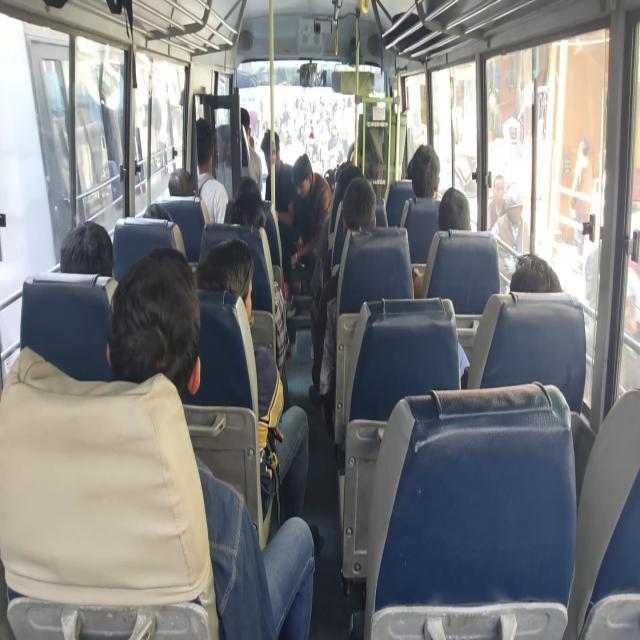person: (107, 246, 315, 638), (196, 237, 310, 529), (308, 176, 376, 432), (509, 253, 589, 407), (412, 186, 471, 298), (290, 153, 332, 275), (195, 117, 228, 224), (260, 129, 294, 229), (569, 136, 593, 272), (59, 220, 114, 277), (490, 185, 529, 255), (508, 252, 562, 293), (406, 143, 441, 199), (240, 106, 262, 194), (232, 176, 267, 229), (438, 187, 471, 231), (488, 174, 507, 231), (167, 168, 194, 196)
